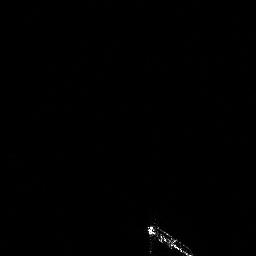ship: (146, 224, 194, 256)
